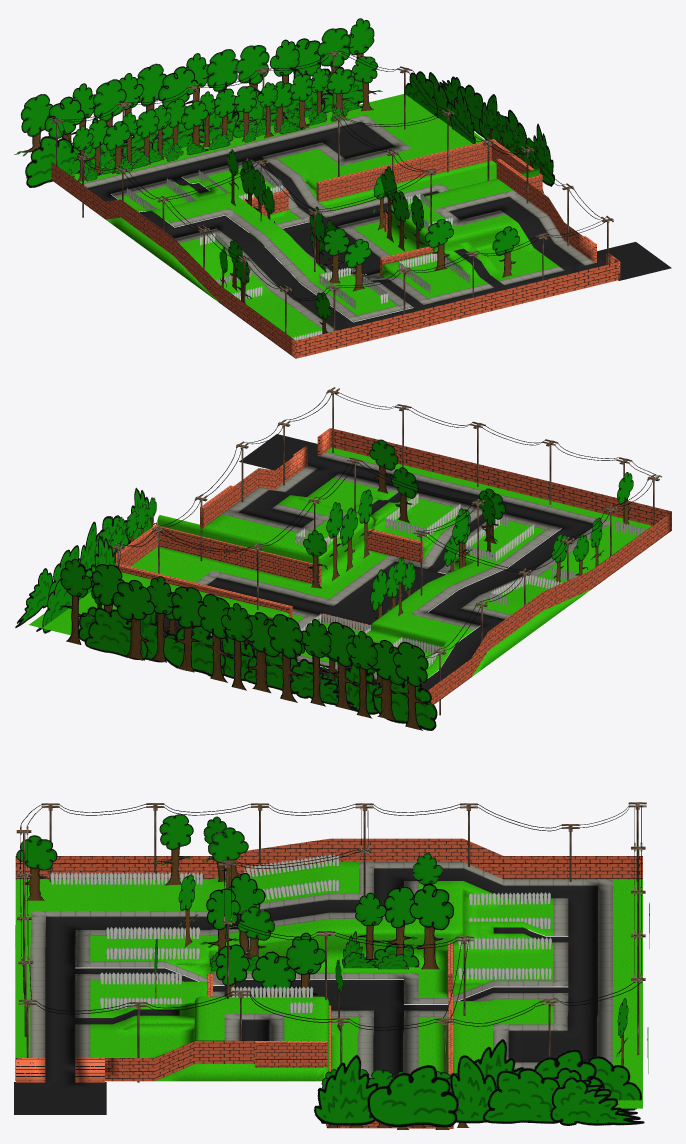
File: NBH-grouped-NewMap.fbx
3 renders of one model, top to bottom at view 1: azimuth 30°, elevation 25°; view 2: azimuth 150°, elevation 25°; view 3: azimuth 270°, elevation 25°, orthographic. The views are drawn at different scales.
Visible parts, largest first — view 1: NBH GROUPED; view 2: NBH GROUPED; view 3: NBH GROUPED.
Boxes of the visible parts, box(x1,y1,x2,y2) form: NBH GROUPED: box(14, 18, 671, 358); NBH GROUPED: box(15, 387, 671, 730); NBH GROUPED: box(14, 802, 649, 1129).
Bounding box in the file's own units: 3078 × 725 × 3356.
